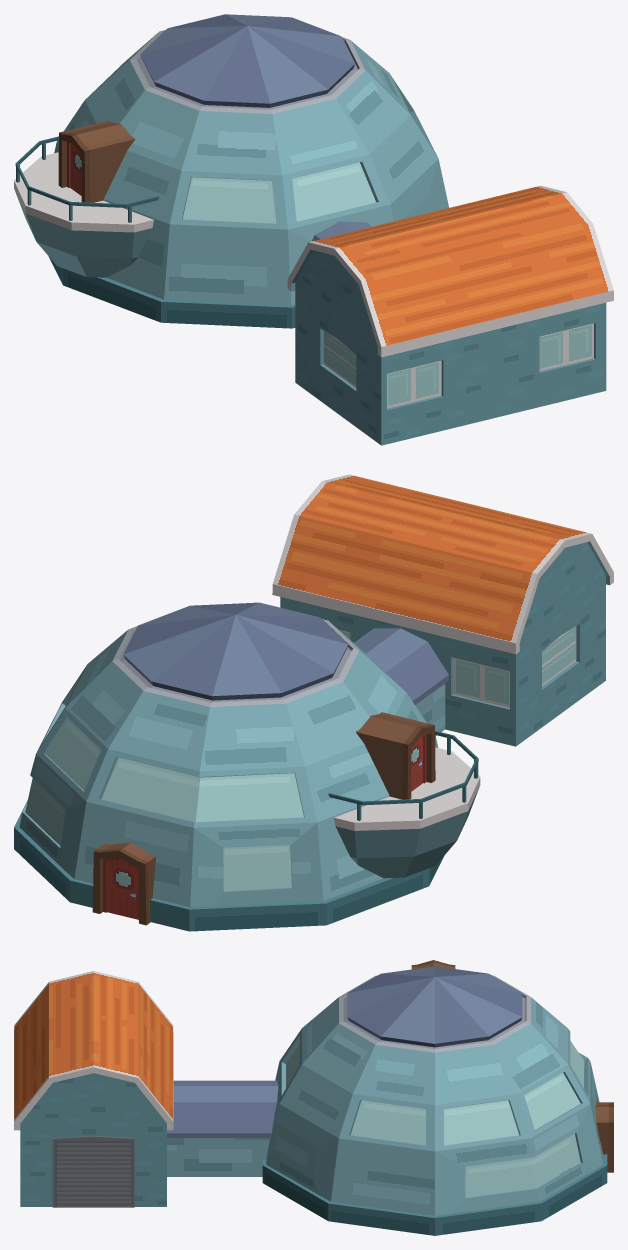
The model's file is f.nps_spherehouse_4.gltf.
3 views of the same model, one above another, from view 1: azimuth 30°, elevation 25°; view 2: azimuth 150°, elevation 25°; view 3: azimuth 270°, elevation 25° (orthographic). The views are drawn at different scales.
Visible parts, largest first — view 1: s4_1, s4_dop; view 2: s4_1, s4_dop, s4_2; view 3: s4_1, s4_dop, s4_2.
Part boxes in pixels (x1,y1,x2,y2): s4_1: (14,14,448,328); s4_dop: (287,185,613,445); s4_1: (14,602,480,931); s4_dop: (272,474,613,746); s4_2: (354,628,448,735); s4_1: (262,960,613,1235); s4_dop: (14,971,173,1207); s4_2: (167,1080,278,1176).
Bounding box in the file's own units: 5.08 × 2.57 × 7.64.
2 materials, 2 textured.
